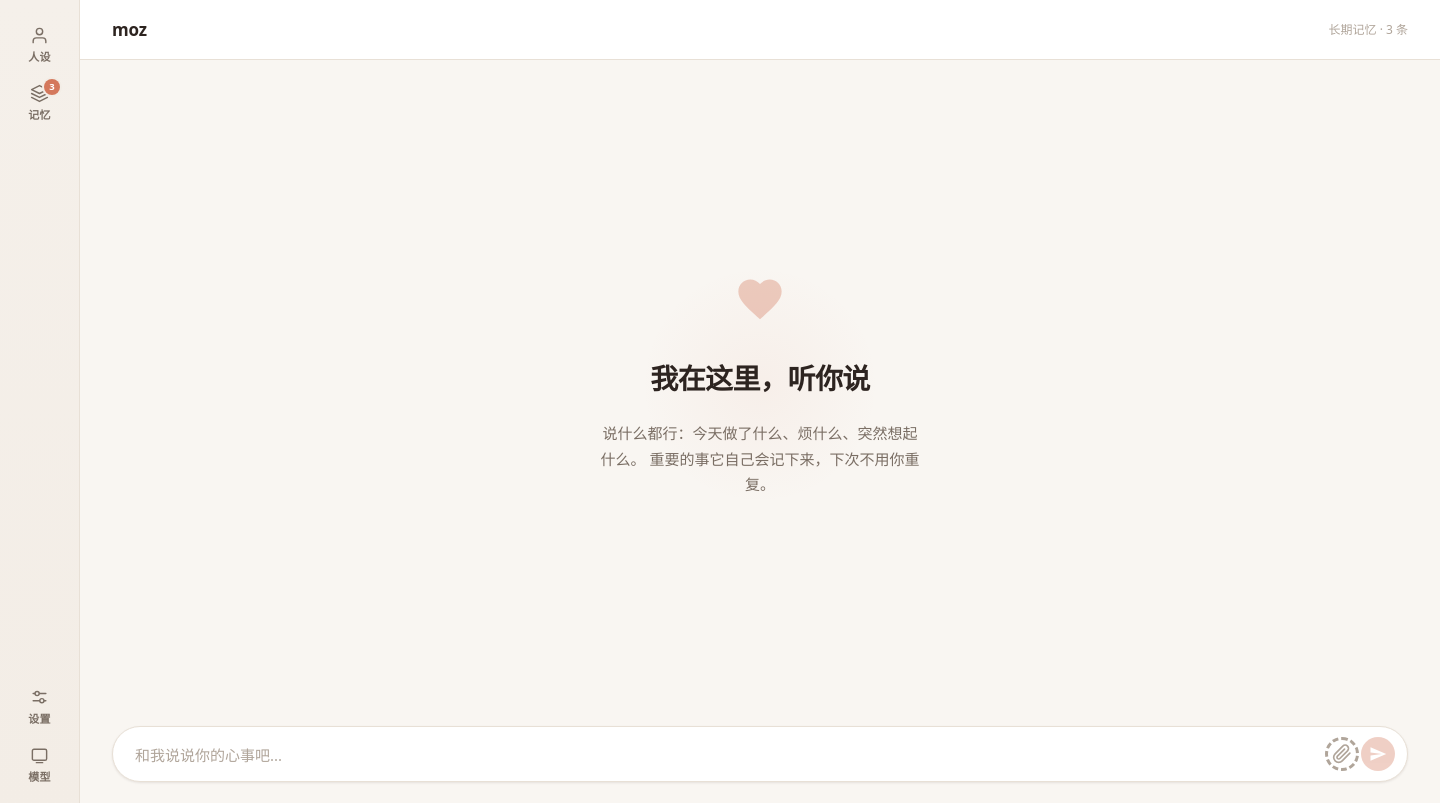
Test: 产品形态回归：单条长期陪伴流 › 到点提醒和平时搭话是两个独立开关，且不摆内部指标
Expected: the button with class "rail-item" showing "人设" is shown, top-left (10, 18), bottom-right (70, 70)
Click the button "设置" at (40, 706), box top-left (10, 680), bottom-right (70, 732)
(page scrolled)
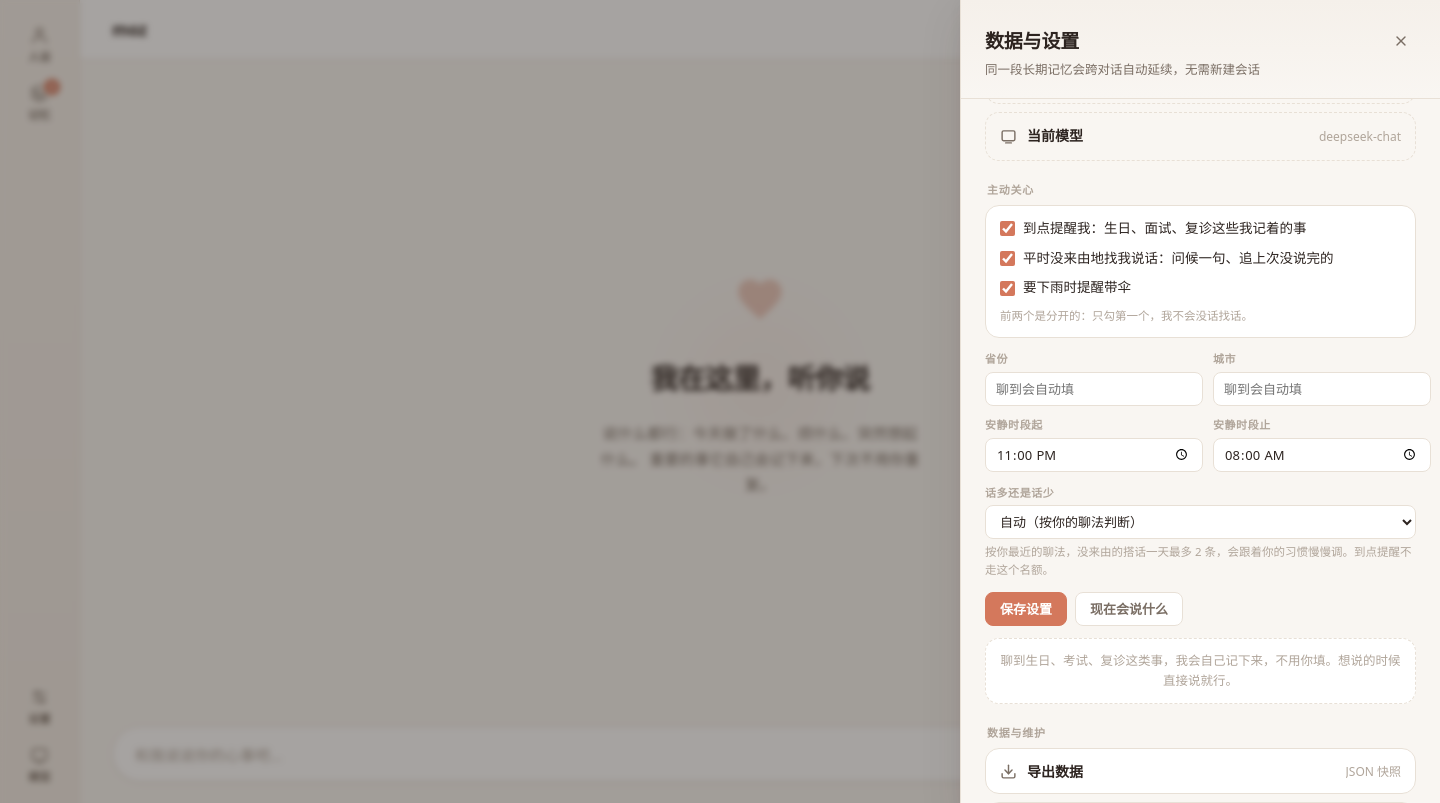
Expected: the element with class "care-section" is shown, top-left (985, 205), bottom-right (1416, 704)
Expected: the element with class "care-section" shows "到点提醒我", top-left (1023, 219), bottom-right (1306, 237)
Expected: the element with class "care-section" shows "没来由地找我说话", top-left (1023, 249), bottom-right (1334, 267)
